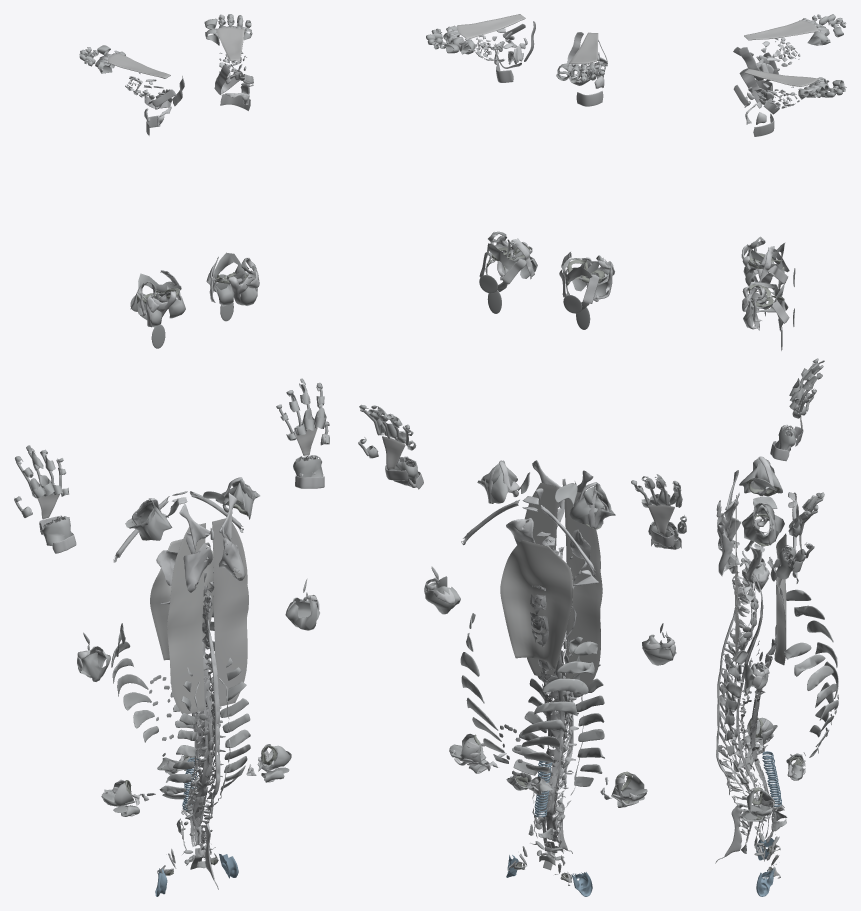
File: ligaments.glb
The picture shows the model from 3 angles, left to right: view 1: azimuth 30°, elevation 25°; view 2: azimuth 150°, elevation 25°; view 3: azimuth 270°, elevation 25°; orthographic projection. The views are drawn at different scales.
Visible parts, largest first — view 1: MOD_vagina_recti_anterior_r, MOD_vagina_recti_anterior_l, MOD_fascia_thoracolumbalis, ZA_Internal_intercostal_membrane_l, ZA_External_intercostal_membrane_r, ZA_Internal_intercostal_membrane_r, ZA_Ligamenta_flava, ZA_Articular_capsule_of_knee_joint_l, ZA_Interspinous_ligaments, ZA_Supraspinous_ligament, ZA_Articular_capsule_of_knee_joint_r, ZA_Articular_capsule_of_hip_joint_r (+9 smaller); view 2: MOD_fascia_thoracolumbalis, MOD_vagina_recti_anterior_r, ZA_External_intercostal_membrane_r, ZA_Anterior_longitudinal_ligament, ZA_Internal_intercostal_membrane_r, MOD_vagina_recti_anterior_l, ZA_External_intercostal_membrane_l, ZA_Internal_intercostal_membrane_l, ZA_Articular_capsule_of_knee_joint_r, ZA_Articular_capsule_of_knee_joint_l, MOD_aponeurosis_plantaris_l, ZA_Posterior_longitudinal_ligament (+1 smaller); view 3: ZA_Interspinous_ligaments, ZA_External_intercostal_membrane_l, ZA_External_intercostal_membrane_r, MOD_fascia_thoracolumbalis, ZA_Anterior_longitudinal_ligament, ZA_Internal_intercostal_membrane_l, MOD_aponeurosis_plantaris_r, ZA_Articular_capsule_of_hip_joint_l, ZA_Posterior_longitudinal_ligament, ZA_Articular_capsule_of_knee_joint_l, MOD_aponeurosis_plantaris_l, MOD_cartilagines_tracheales (+21 smaller).
Boxes of the visible parts, x1,y1,x2,y2 form: MOD_vagina_recti_anterior_r: [167, 523, 205, 714]; MOD_vagina_recti_anterior_l: [212, 518, 248, 706]; MOD_fascia_thoracolumbalis: [150, 539, 213, 660]; ZA_Internal_intercostal_membrane_l: [220, 658, 250, 789]; ZA_External_intercostal_membrane_r: [111, 623, 158, 742]; ZA_Internal_intercostal_membrane_r: [159, 667, 196, 799]; ZA_Ligamenta_flava: [194, 584, 214, 857]; ZA_Articular_capsule_of_knee_joint_l: [212, 252, 257, 306]; ZA_Interspinous_ligaments: [200, 581, 217, 850]; ZA_Supraspinous_ligament: [207, 602, 220, 816]; ZA_Articular_capsule_of_knee_joint_r: [136, 273, 185, 327]; ZA_Articular_capsule_of_hip_joint_r: [125, 502, 172, 540]; MOD_fascia_thoracolumbalis: [500, 540, 572, 668]; MOD_vagina_recti_anterior_r: [564, 492, 602, 687]; ZA_External_intercostal_membrane_r: [521, 641, 597, 772]; ZA_Anterior_longitudinal_ligament: [530, 536, 560, 847]; ZA_Internal_intercostal_membrane_r: [568, 637, 604, 786]; MOD_vagina_recti_anterior_l: [523, 482, 558, 676]; ZA_External_intercostal_membrane_l: [460, 613, 508, 763]; ZA_Internal_intercostal_membrane_l: [512, 669, 548, 775]; ZA_Articular_capsule_of_knee_joint_r: [562, 258, 609, 310]; ZA_Articular_capsule_of_knee_joint_l: [485, 239, 537, 291]; MOD_aponeurosis_plantaris_l: [457, 14, 525, 38]; ZA_Posterior_longitudinal_ligament: [544, 549, 564, 839]; ZA_Interspinous_ligaments: [718, 566, 750, 835]; ZA_External_intercostal_membrane_l: [784, 642, 838, 757]; ZA_External_intercostal_membrane_r: [786, 589, 838, 737]; MOD_fascia_thoracolumbalis: [774, 533, 786, 665]; ZA_Anterior_longitudinal_ligament: [750, 543, 783, 838]; ZA_Internal_intercostal_membrane_l: [724, 650, 751, 791]; MOD_aponeurosis_plantaris_r: [744, 20, 818, 40]; ZA_Articular_capsule_of_hip_joint_l: [741, 505, 784, 544]; ZA_Posterior_longitudinal_ligament: [736, 559, 763, 835]; ZA_Articular_capsule_of_knee_joint_l: [743, 282, 785, 331]; MOD_aponeurosis_plantaris_l: [744, 69, 818, 86]; MOD_cartilagines_tracheales: [762, 751, 781, 806].
Size of the model in its own units: 639 by 1610 by 233.
